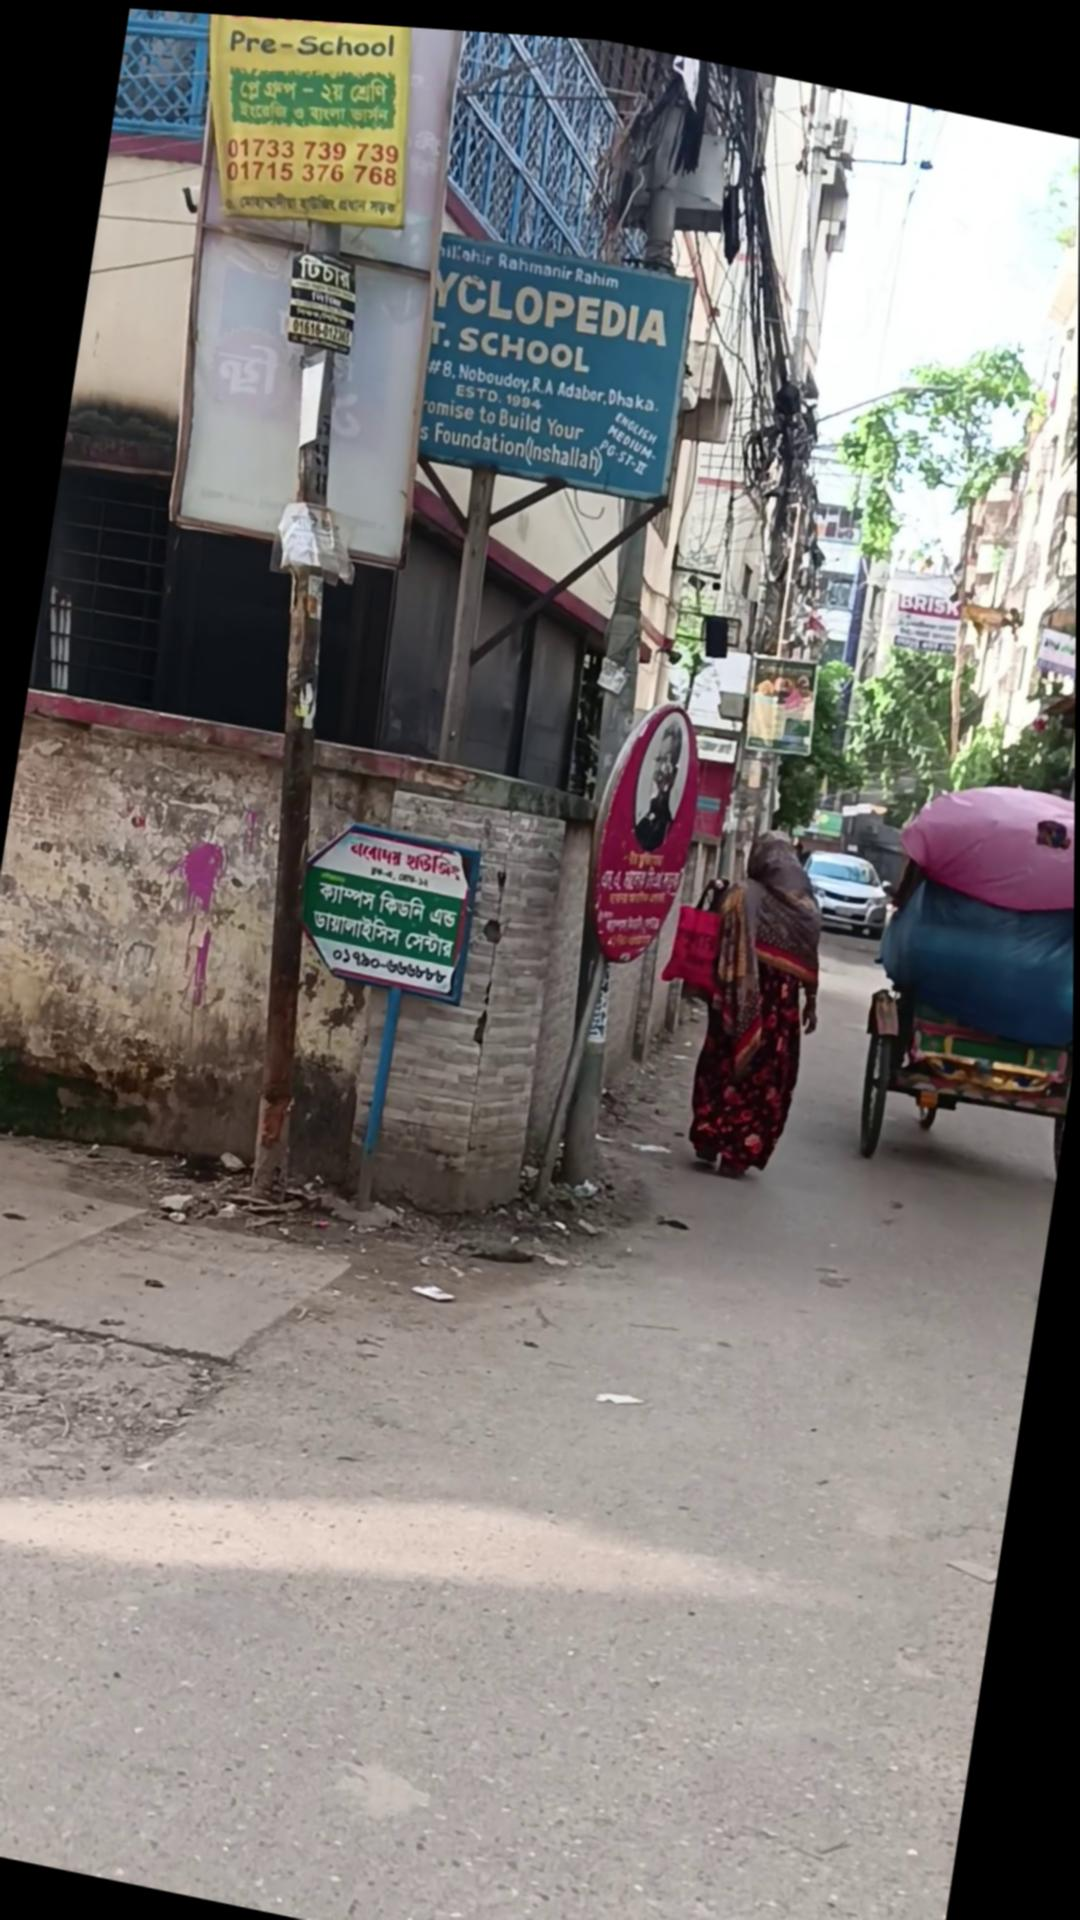Car: (794, 831, 897, 930)
Muddy road: (676, 806, 844, 1182)
Pothole: (845, 744, 1076, 1183)
Stuck-water: (289, 804, 485, 1000)
Tree: (0, 674, 603, 1230)
